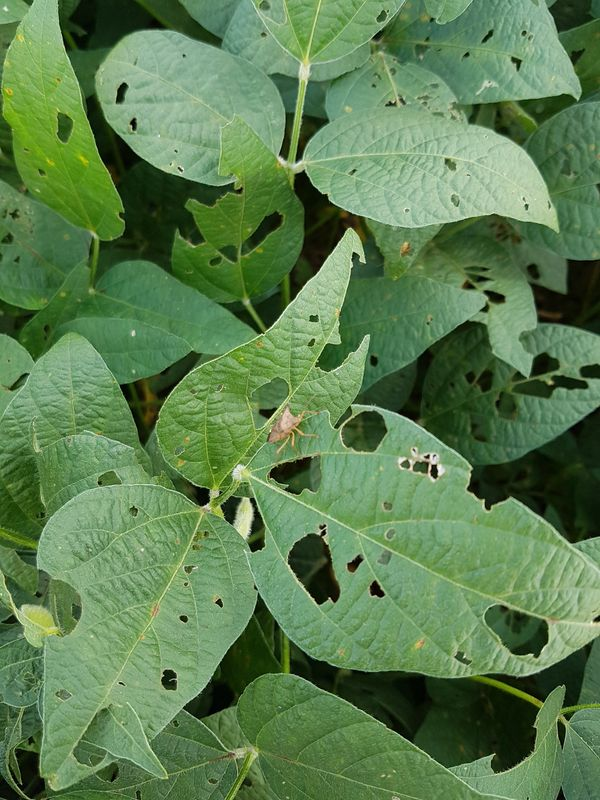Euschistus_heros_adulto: (258, 399, 323, 459)
